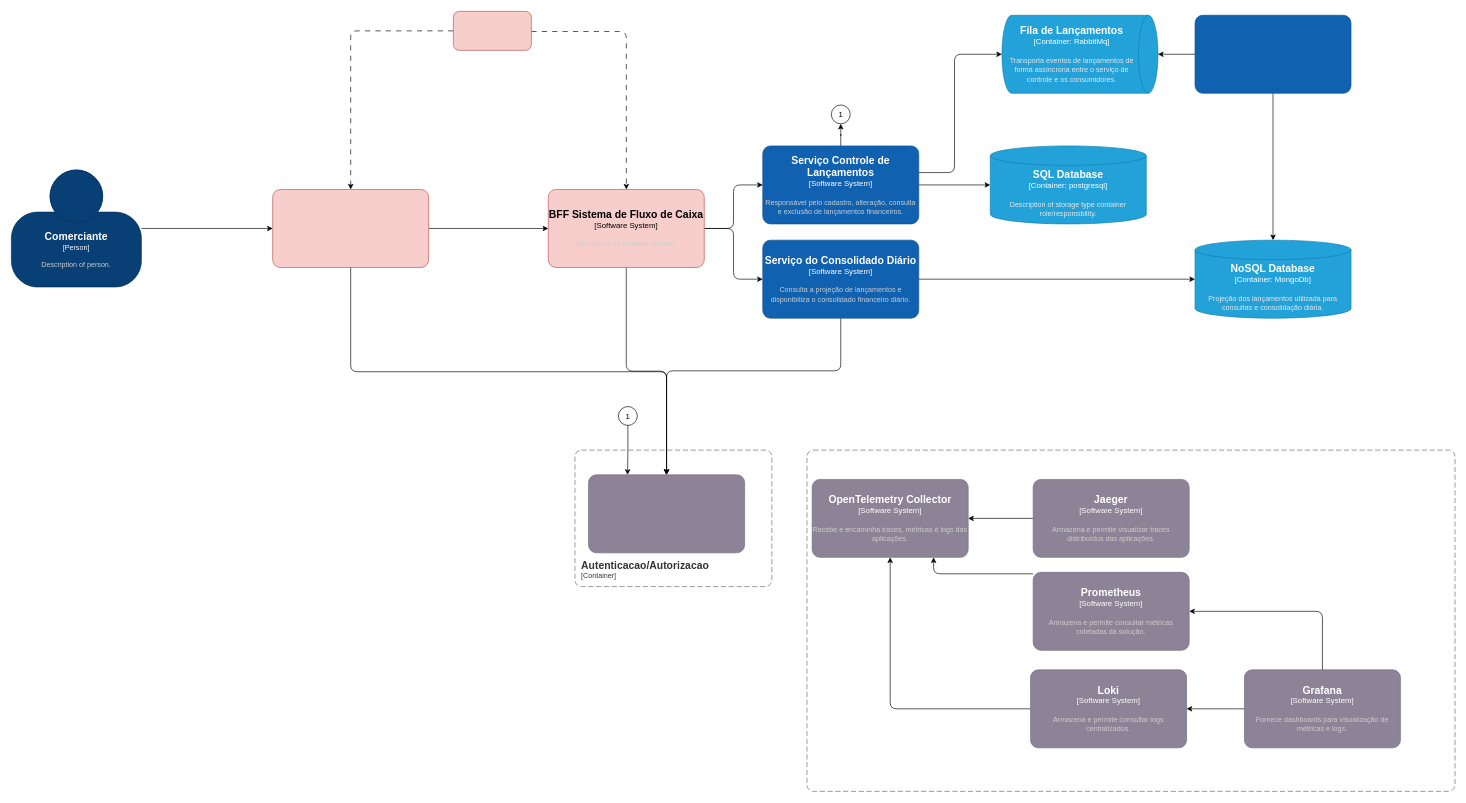
Image size: 1466x803. Some labels were removed from this diagram. The box of each missing label's shape, as (x1, y1, x2, y2) in pixels:
Consolidacao [Software System] Description of software system.: (1194, 15, 1351, 93)
Keycloak [Software System] Sistema para authenticacao e autorizacao: (588, 474, 745, 553)
MFE Sistema de Fluxo de Caixa [Software System] Description of software system.: (272, 189, 429, 267)
Observabilidade [Container]: (806, 449, 1455, 791)
Próximos passos: (453, 11, 531, 50)
